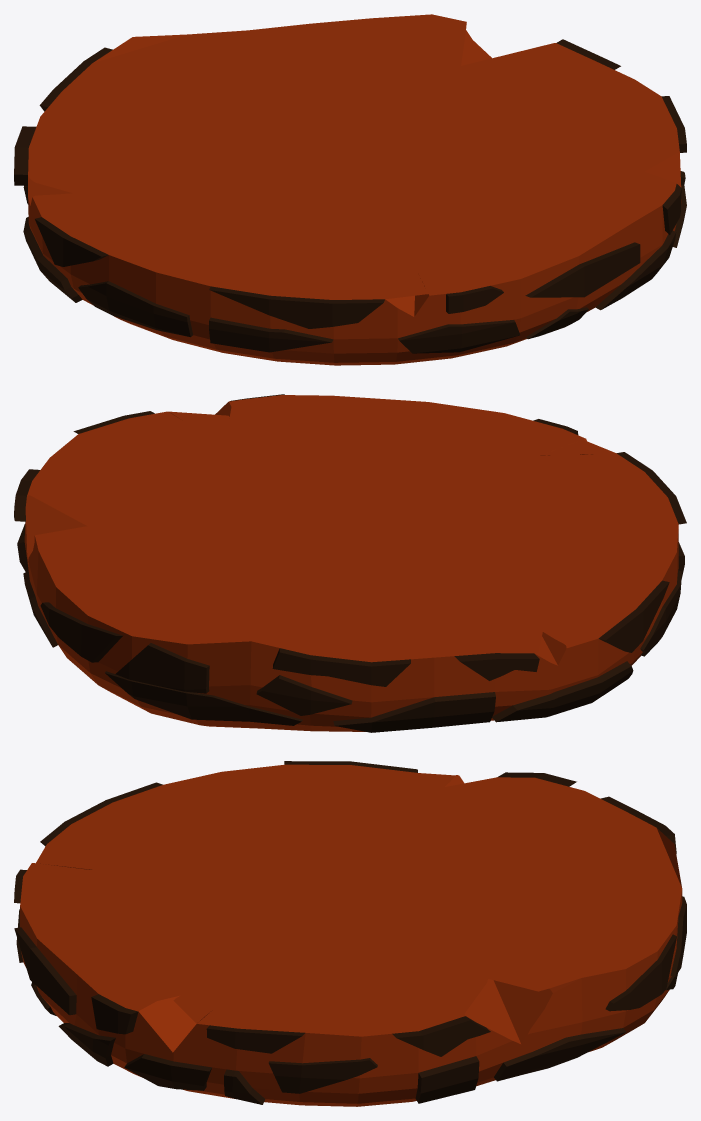
Rendered from Burger_skin_FIRE DOWN.fbx.
3 views of the same model, one above another, from view 1: azimuth 30°, elevation 25°; view 2: azimuth 150°, elevation 25°; view 3: azimuth 270°, elevation 25° (orthographic). The views are drawn at different scales.
Parts seen in each view (by area): view 1: Burger Bread Down A; view 2: Burger Bread Down A; view 3: Burger Bread Down A.
Boxes of the visible parts, left/top/right/bottom form: Burger Bread Down A: left=14, top=14, right=686, bottom=365; Burger Bread Down A: left=14, top=394, right=686, bottom=732; Burger Bread Down A: left=14, top=761, right=686, bottom=1106.
Size of the model in its own units: 77 by 14.41 by 74.93.
